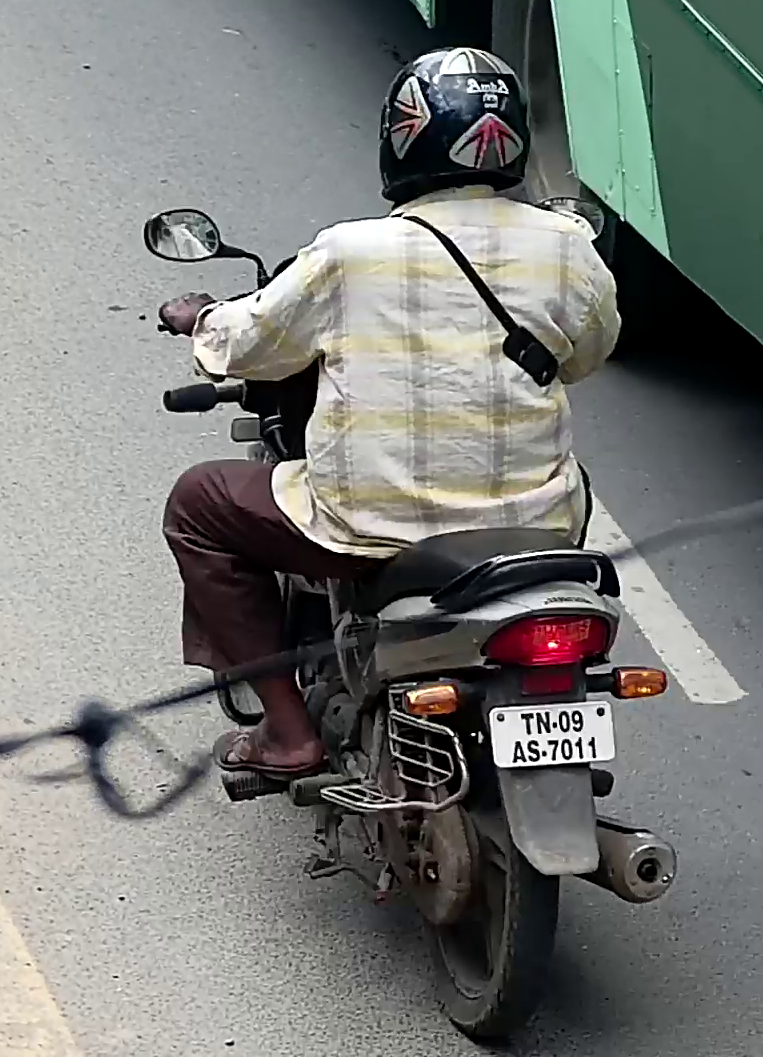-: (552, 721, 558, 729), (542, 750, 547, 757)
0: (561, 738, 573, 760), (559, 711, 571, 732)
1: (573, 737, 585, 760), (587, 736, 597, 759)
7: (547, 739, 560, 761)
9: (571, 710, 584, 732)
A: (512, 740, 527, 763)
N: (535, 711, 552, 734)
P16: (488, 700, 618, 771)
S: (527, 739, 541, 762)
T: (520, 712, 535, 736)
